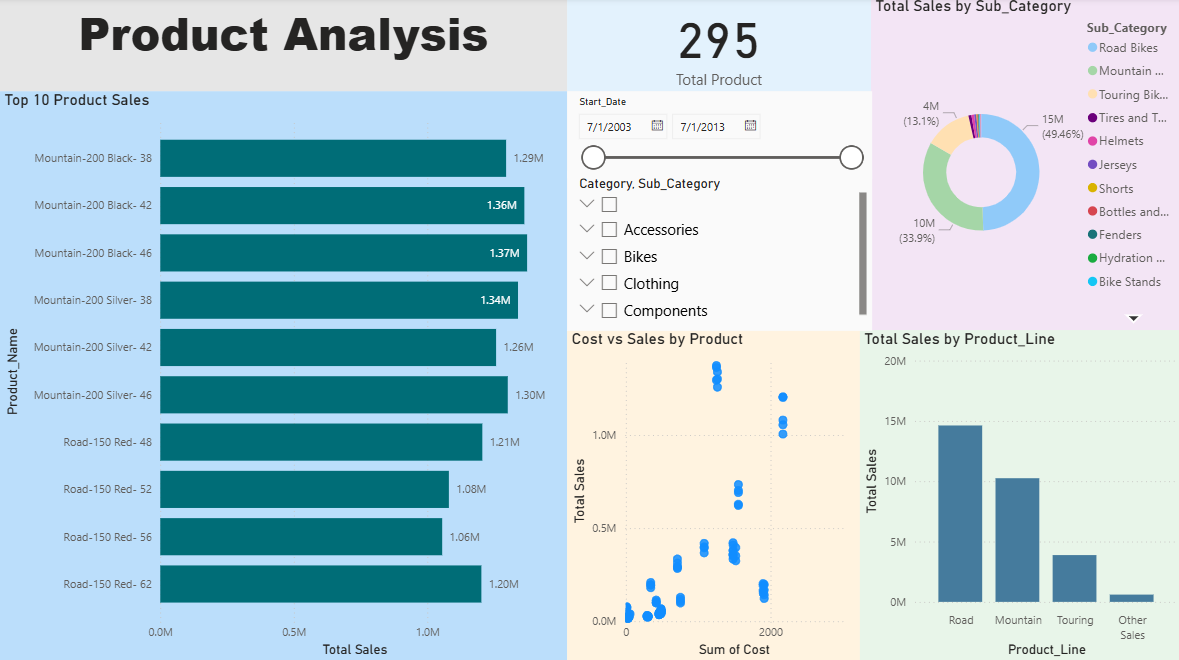

The page's visual inventory and layout, read from the dashboard file:
{"tool":"powerbi","page":{"name":"Product Analysis","canvas":[1280,720],"ordinal":2},"visuals":[{"type":"textbox","box":[0,0,614,102],"z":0},{"type":"card","fields":{"Values":["Count(final dim_products.Product_Key)"]},"box":[614,0,329,102],"z":1000},{"type":"donutChart","fields":{"Category":["final dim_products.Sub_Category"],"Y":["final fact_sales.Total Sales"]},"box":[943.1,0,337.8,360.7],"z":2000},{"type":"clusteredBarChart","title":"Top 10 Product Sales","fields":{"Category":["final dim_products.Product_Name"],"Y":["final fact_sales.Total Sales"]},"box":[0,102,614,617.6],"z":3000},{"type":"clusteredColumnChart","fields":{"Category":["final dim_products.Product_Line"],"Y":["final fact_sales.Total Sales"]},"box":[930.7,360.7,350.1,358.9],"z":4000},{"type":"scatterChart","fields":{"X":["Sum(final dim_products.Cost)"],"Y":["final fact_sales.Total Sales"],"Category":["final dim_products.Product_Name"]},"box":[614,360.7,316.7,358.9],"z":5000},{"type":"slicer","fields":{"Values":["final dim_products.Category","final dim_products.Sub_Category"]},"box":[614,188.3,329,172.4],"z":6000},{"type":"slicer","fields":{"Values":["final dim_products.Start_Date"]},"box":[614,102,329,93.3],"z":7000}]}

Visuals, with their boxes in screenshot pixels (x1, y1, x2, y2), scaled from the page's 1280x720 canvas onto the 1179x660 screenshot:
textbox: bbox=[0, 0, 566, 94]
card - Count(final dim_products.Product_Key): bbox=[566, 0, 869, 94]
donutChart - final dim_products.Sub_Category x final fact_sales.Total Sales: bbox=[869, 0, 1178, 331]
"Top 10 Product Sales" clusteredBarChart: bbox=[0, 94, 566, 659]
clusteredColumnChart - final dim_products.Product_Line x final fact_sales.Total Sales: bbox=[857, 331, 1178, 659]
scatterChart - Sum(final dim_products.Cost) x final fact_sales.Total Sales: bbox=[566, 331, 857, 659]
slicer - final dim_products.Category x final dim_products.Sub_Category: bbox=[566, 173, 869, 331]
slicer - final dim_products.Start_Date: bbox=[566, 94, 869, 179]
